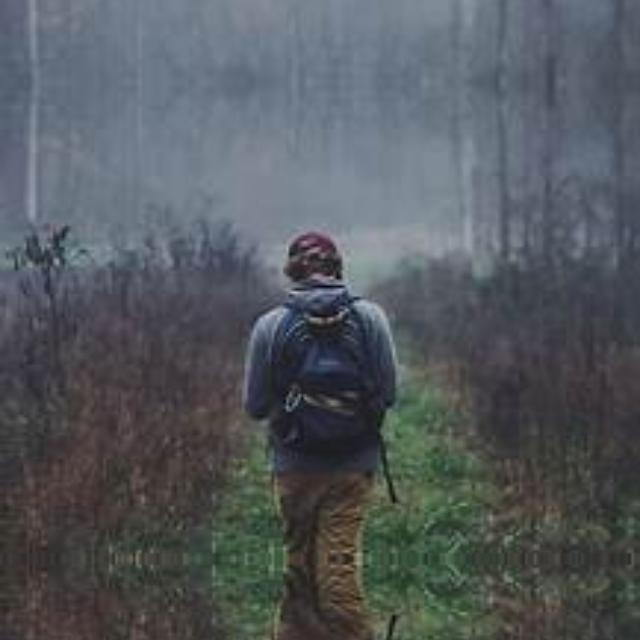person: (260, 211, 398, 549), (259, 569, 398, 640)
